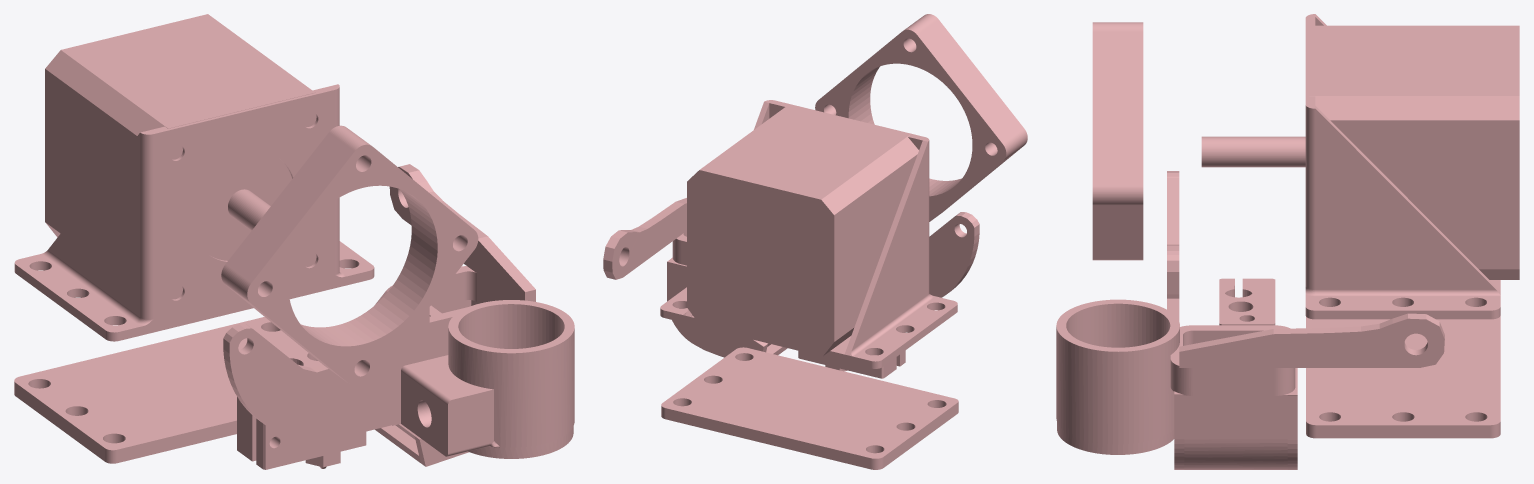
The model's file is d3d_titan_aero_core_approved.glb.
3 views of the same model, side by side, from view 1: azimuth 30°, elevation 25°; view 2: azimuth 150°, elevation 25°; view 3: azimuth 270°, elevation 25° (orthographic). The views are drawn at different scales.
Parts seen in each view (by area): view 1: d3d_titan_aero_core_mesh; view 2: d3d_titan_aero_core_mesh; view 3: d3d_titan_aero_core_mesh.
Part boxes in pixels (<box>): d3d_titan_aero_core_mesh: <box>14,14,574,469</box>; d3d_titan_aero_core_mesh: <box>603,14,1027,469</box>; d3d_titan_aero_core_mesh: <box>1056,14,1519,469</box>.
Size of the model in its own units: 0.084 by 0.0857 by 0.0951.
